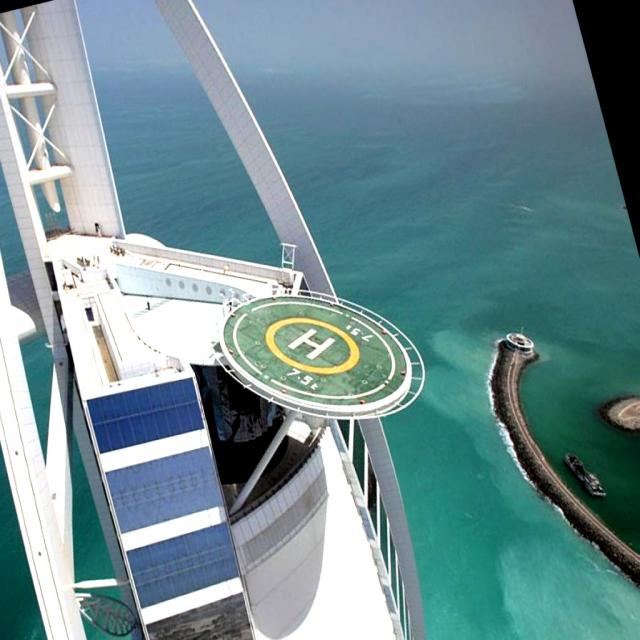helipad: (261, 312, 360, 377)
